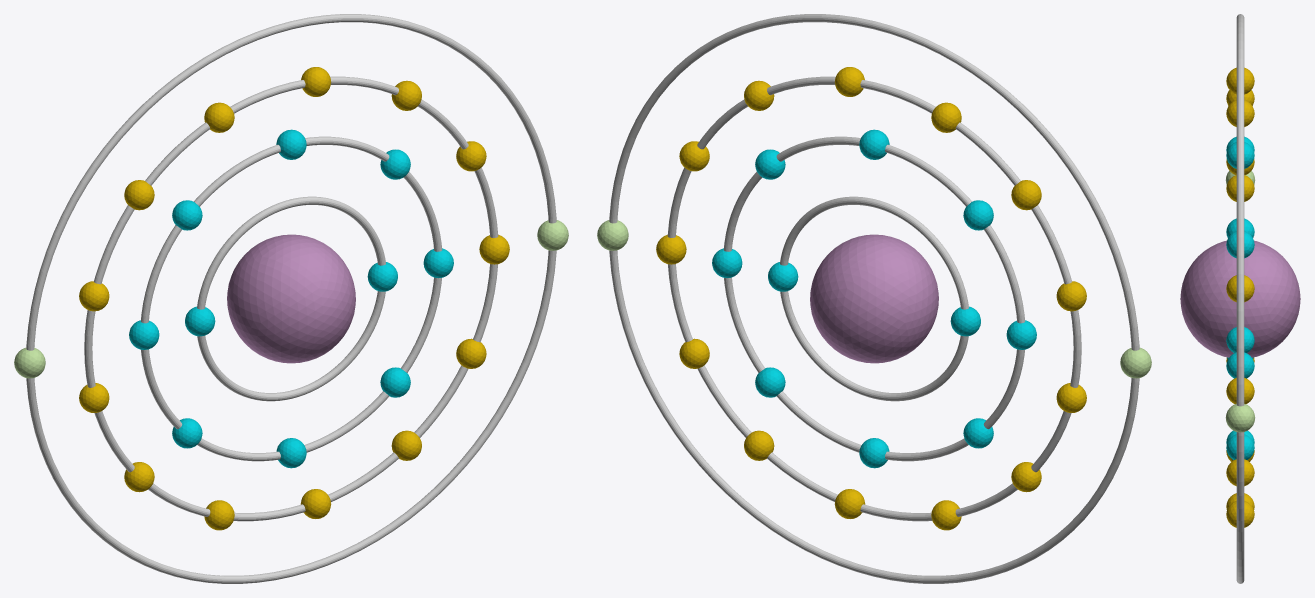
3 views of the same model, side by side, from view 1: azimuth 30°, elevation 25°; view 2: azimuth 150°, elevation 25°; view 3: azimuth 270°, elevation 25° (orthographic). The views are drawn at different scales.
Parts seen in each view (by area): view 1: Camada_4, Nucleo_Mn, Camada_3, Camada_2, Camada_1, e4_2, e4_1, e2_4, e2_8, e3_6, e3_12, e3_13 (+18 smaller); view 2: Camada_4, Nucleo_Mn, Camada_3, Camada_2, Camada_1, e4_2, e4_1, e2_4, e2_8, e3_6, e3_12, e3_13 (+18 smaller); view 3: Nucleo_Mn, Camada_4, e4_1, e2_3, e3_3, e2_2, e3_2, e3_5, e3_13, e1_1, e3_12, e2_1 (+6 smaller).
Boxes of the visible parts, box(x1,y1,x2,y2) form: Camada_4: box(26, 14, 556, 583); Nucleo_Mn: box(227, 234, 355, 363); Camada_3: box(84, 76, 498, 521); Camada_2: box(140, 136, 442, 461); Camada_1: box(197, 196, 385, 401); e4_2: box(14, 347, 45, 378); e4_1: box(537, 220, 568, 250); e2_4: box(172, 200, 202, 230); e2_8: box(380, 367, 410, 397); e3_6: box(124, 180, 154, 210); e3_12: box(391, 430, 421, 460); e3_13: box(456, 338, 486, 368); Camada_4: box(609, 14, 1139, 583); Nucleo_Mn: box(810, 234, 938, 363); Camada_3: box(667, 76, 1081, 521); Camada_2: box(723, 136, 1025, 461); Camada_1: box(780, 196, 968, 401); e4_2: box(1120, 347, 1151, 378); e4_1: box(597, 220, 628, 250); e2_4: box(963, 200, 993, 230); e2_8: box(755, 367, 785, 397); e3_6: box(1011, 180, 1041, 210); e3_12: box(744, 430, 774, 460); e3_13: box(679, 338, 709, 368); Nucleo_Mn: box(1180, 240, 1300, 357); Camada_4: box(1236, 14, 1244, 583); e4_1: box(1225, 404, 1255, 432); e2_3: box(1226, 142, 1254, 168); e3_3: box(1226, 175, 1254, 201); e2_2: box(1226, 231, 1254, 258); e3_2: box(1226, 275, 1254, 302); e3_5: box(1226, 67, 1254, 94); e3_13: box(1226, 459, 1254, 486); e1_1: box(1226, 327, 1254, 352); e3_12: box(1226, 501, 1254, 527); e2_1: box(1226, 352, 1254, 378).
Size of the model in its own units: 2.17 by 2.09 by 0.44.
